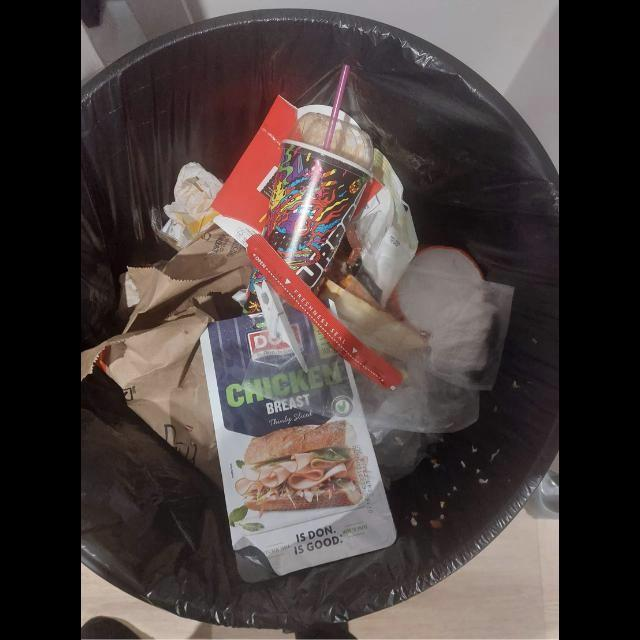cardboard: (261, 141, 375, 289)
food_wrapper: (202, 306, 397, 582), (353, 148, 419, 290)
paper: (81, 227, 250, 493), (320, 272, 430, 364), (154, 164, 221, 255)
plastic_bag: (238, 244, 516, 433)
